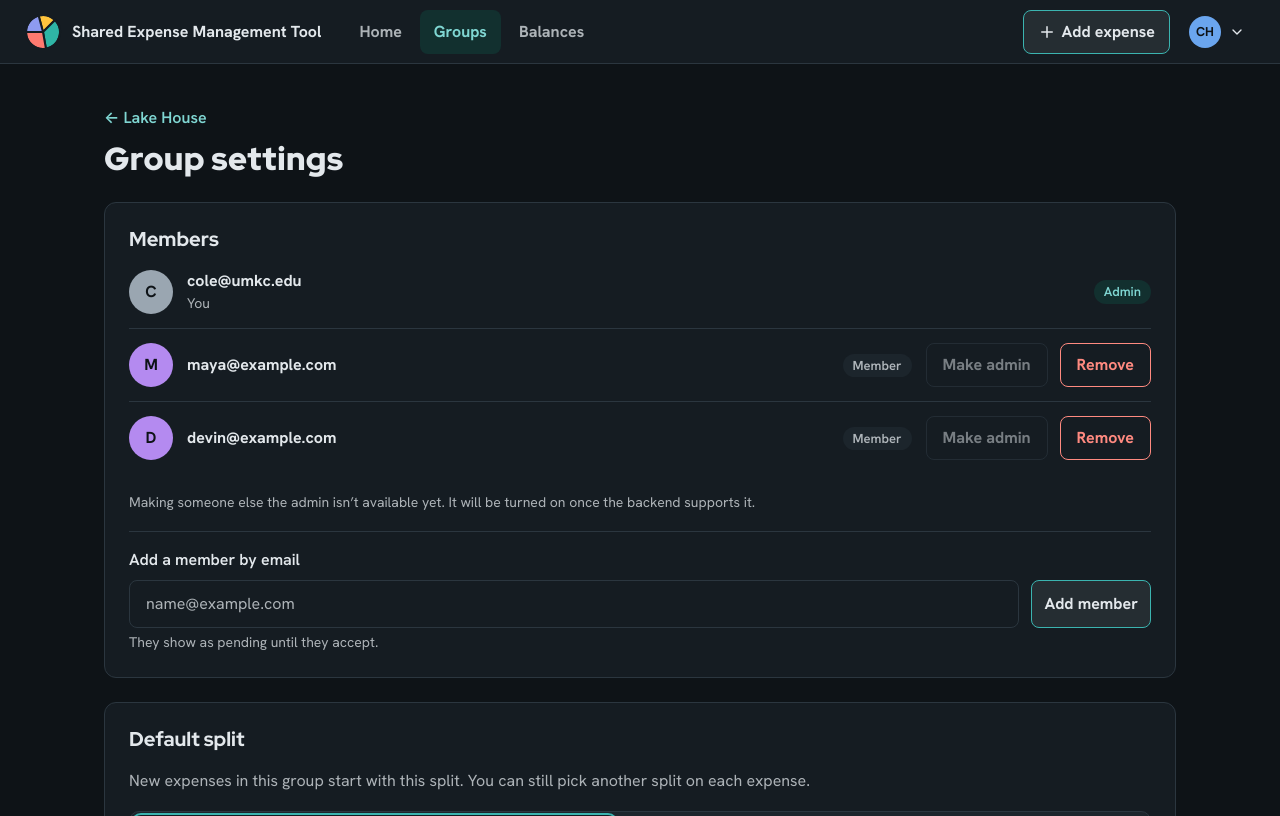
Test case: Group settings: add a member › checks the email before sending
Expected: the heading "Group settings" is shown, left=104, top=137, right=343, bottom=180
Expected: the text "maya@example.com" is shown, left=187, top=354, right=336, bottom=375
Click the button "Add member". click: (1091, 604)
box: left=1032, top=580, right=1151, bottom=628
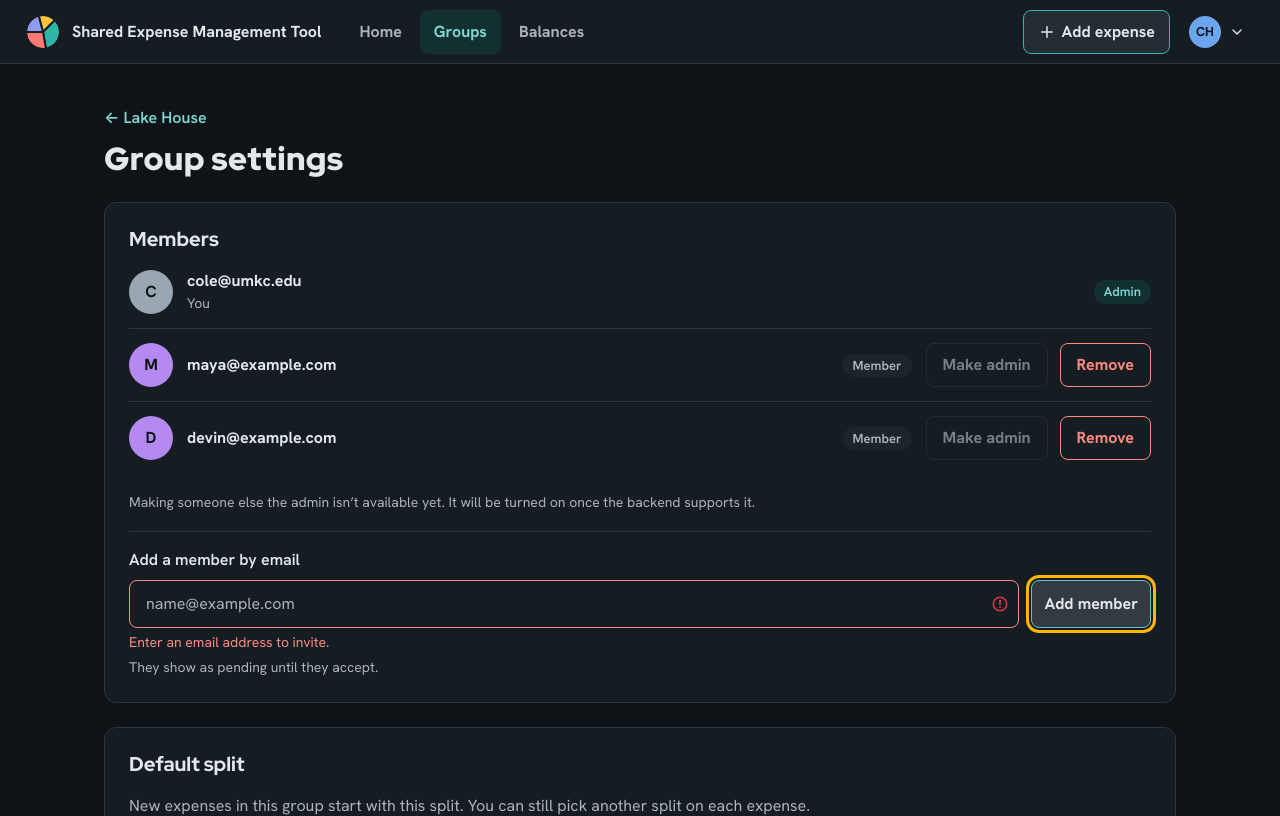
Expected: the text "Enter an email address to invite." is shown, left=129, top=633, right=329, bottom=651
Type "nope" into the field labelled "Add a member by email". click: (574, 604)
box: left=129, top=580, right=1020, bottom=628
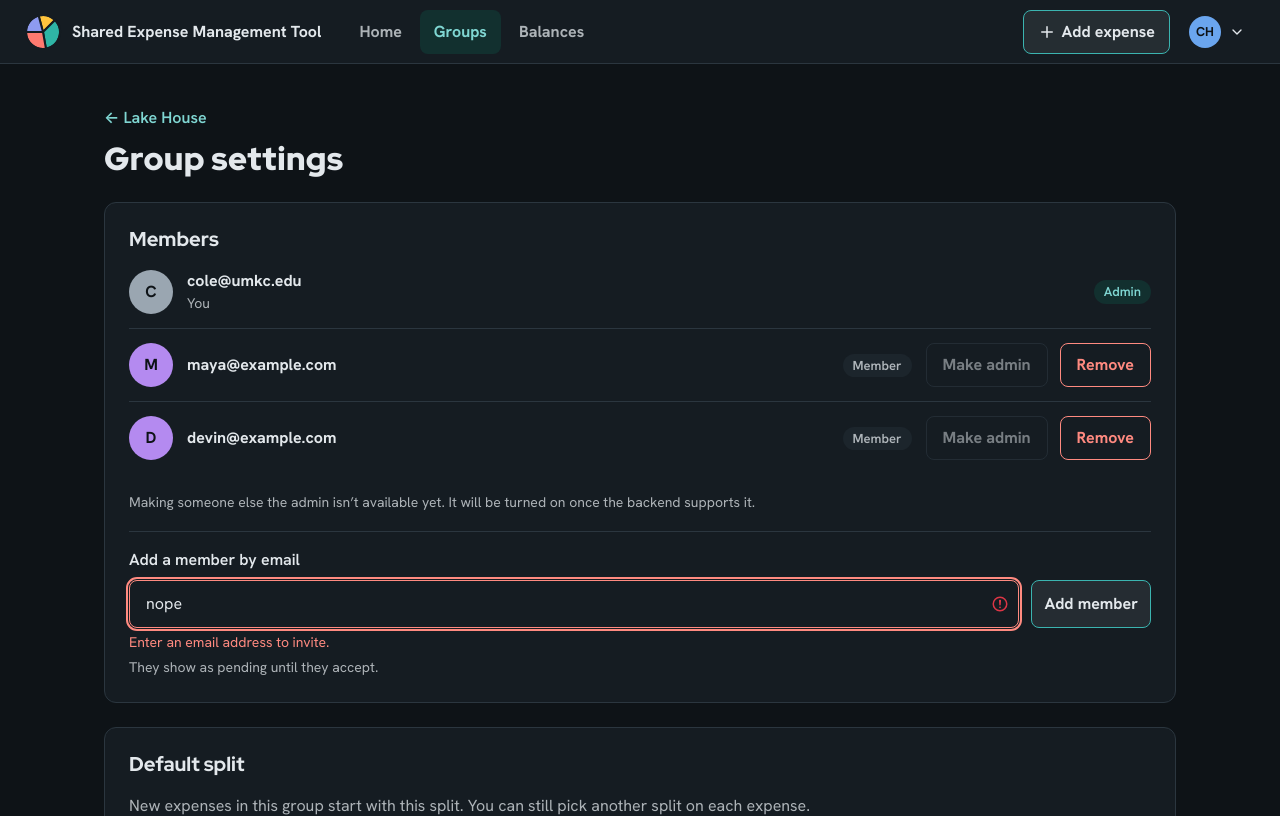
Click the button "Add member". click: (1091, 604)
box: left=1032, top=580, right=1151, bottom=628
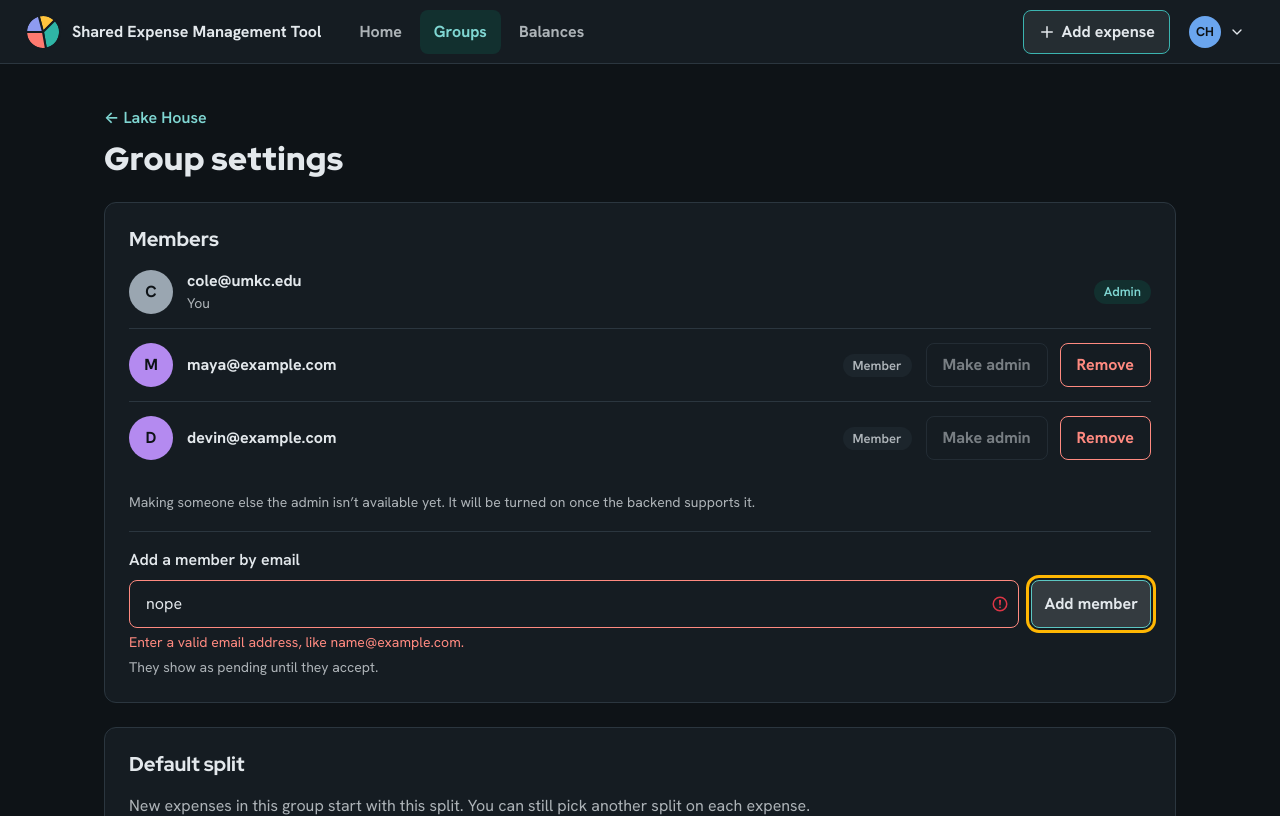
Expected: the text "Enter a valid email address, like name@example.com." is shown, left=129, top=633, right=464, bottom=651
Replace the text in the field labelled "Add a member by email" with "MAYA@example.com". click: (574, 604)
box: left=129, top=580, right=1020, bottom=628
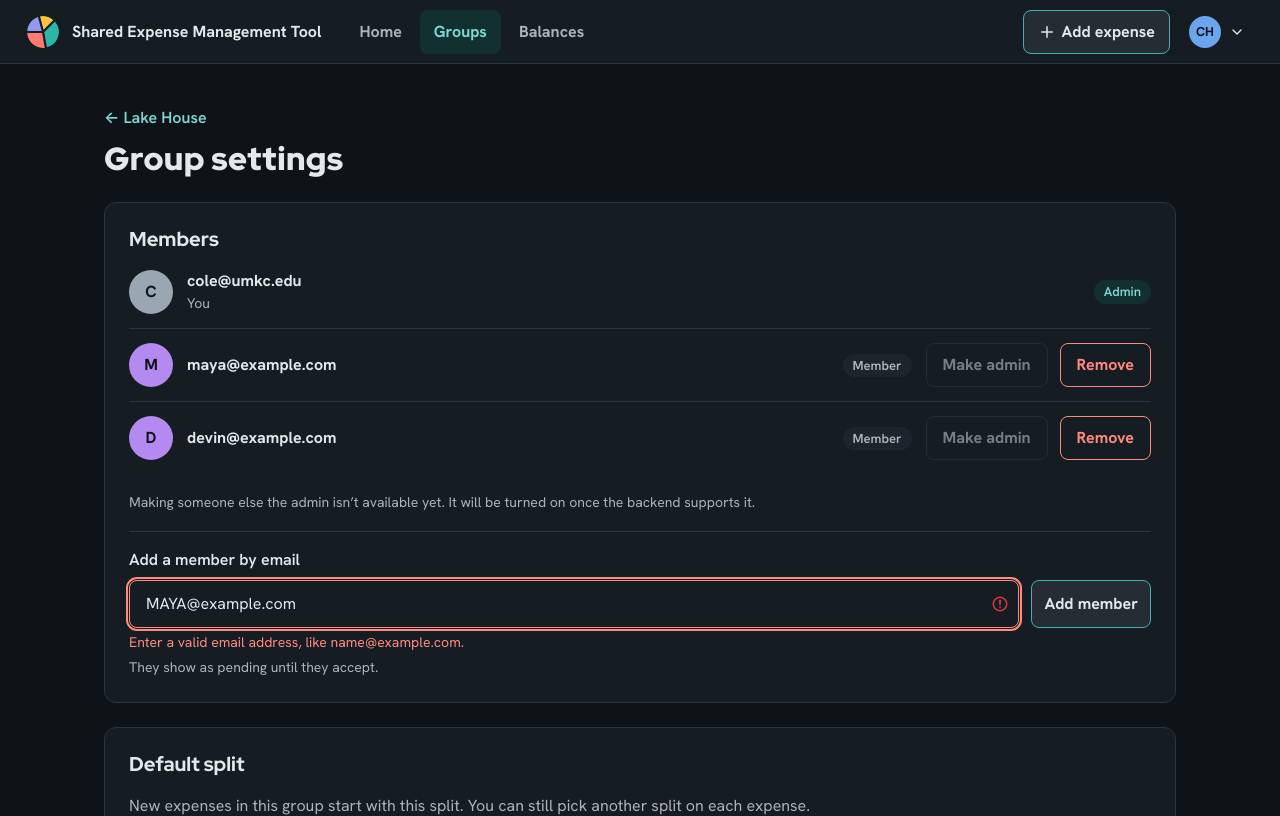
Click the button "Add member". click: (1091, 604)
box: left=1032, top=580, right=1151, bottom=628
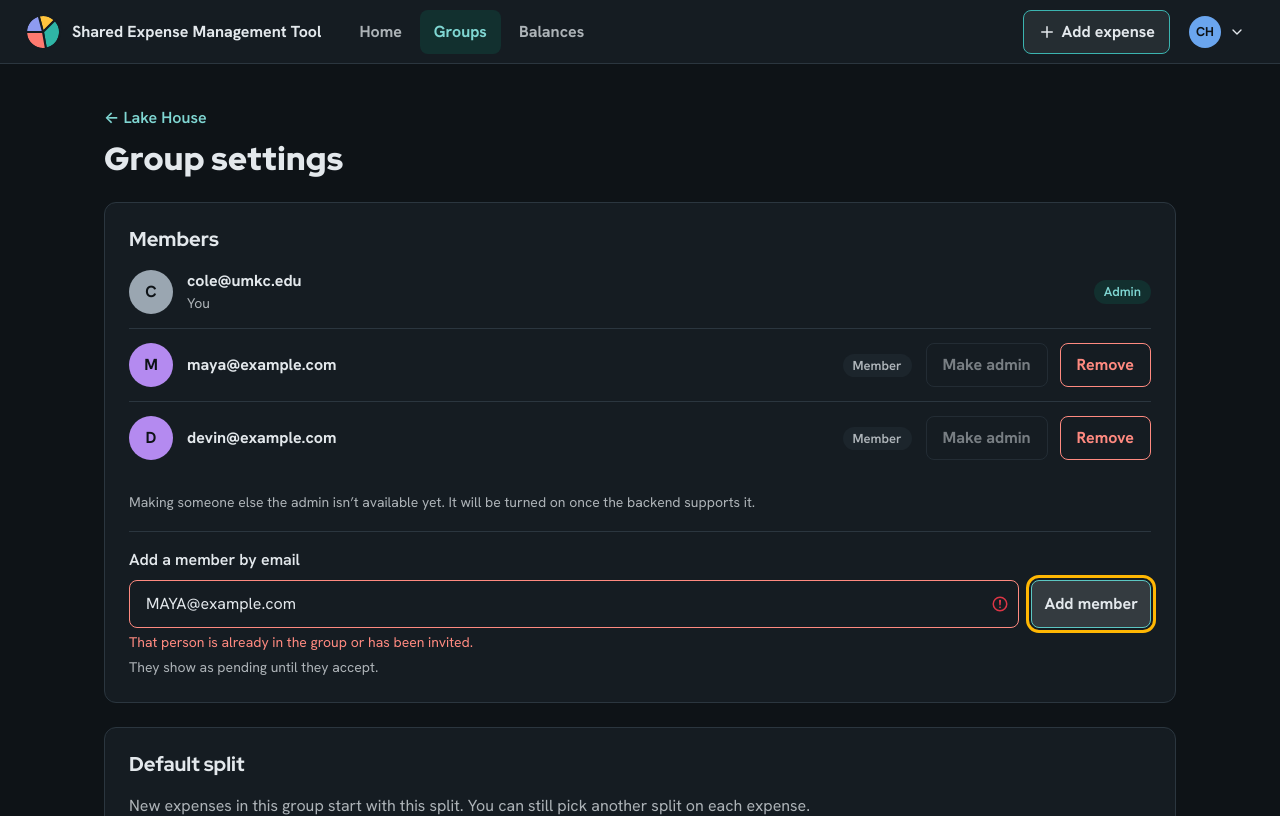
Expected: the text "That person is already in the group or has been invited." is shown, left=129, top=633, right=473, bottom=651
